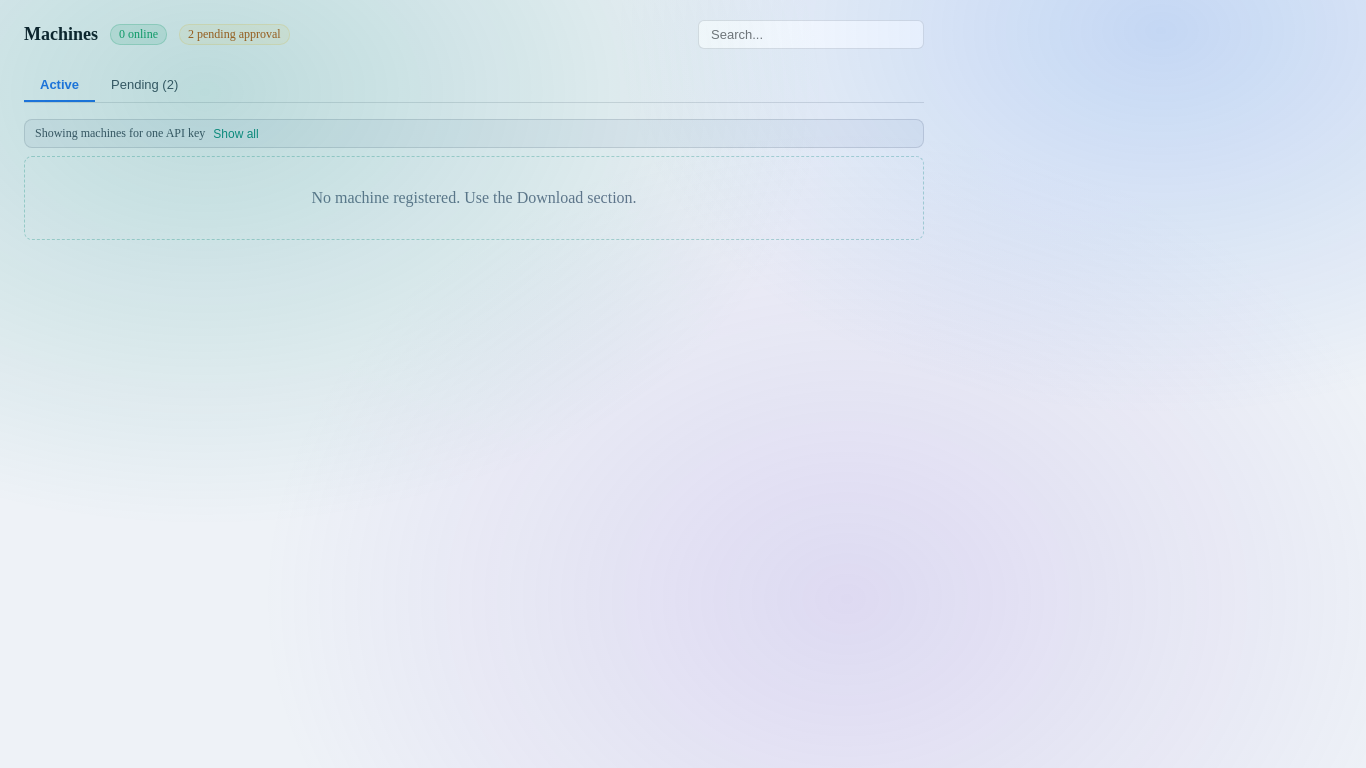
Test: MachinesPage key filter › finds pending machines that belong to the filtered key
Click the button "Pending (2)" at x=145, y=86, box x1=95 y1=69 x2=194 y2=102
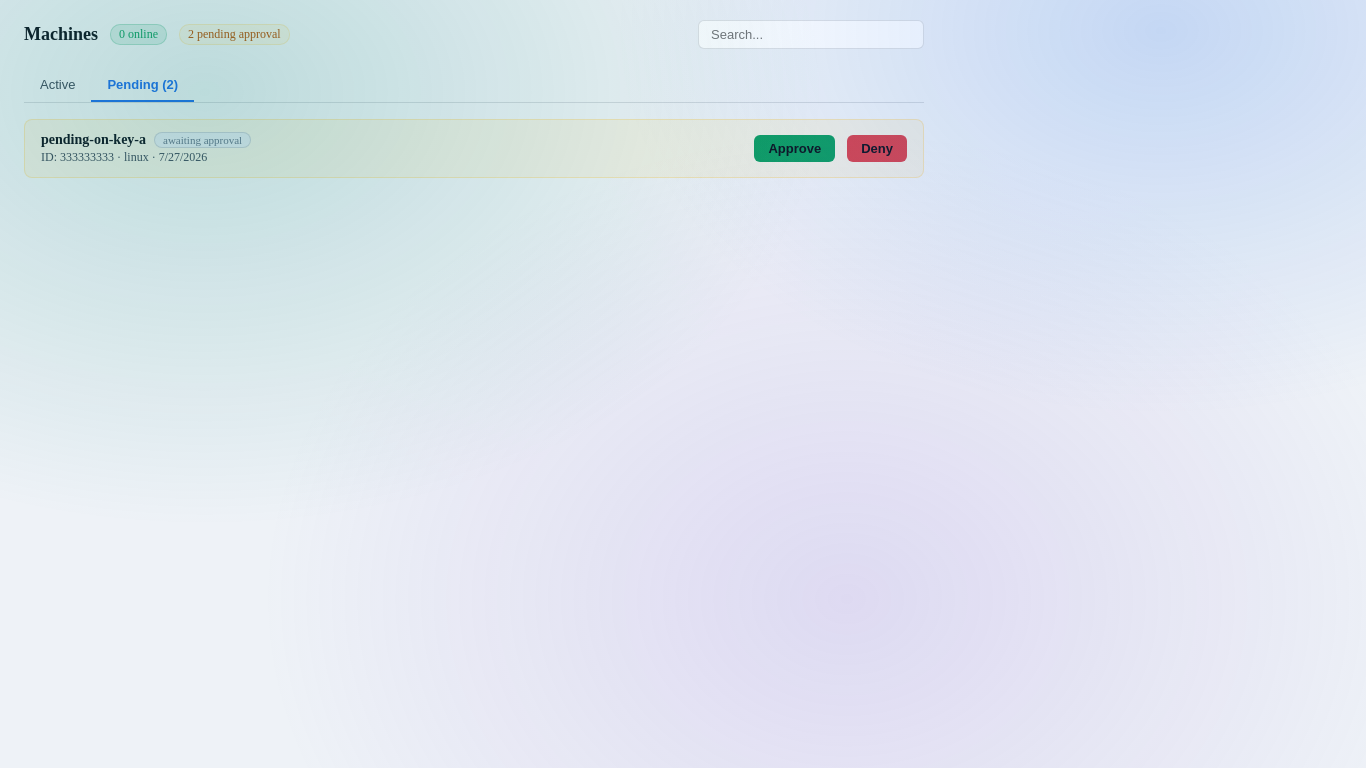
Check: the text "pending-on-key-a" is shown, box x1=41 y1=132 x2=146 y2=148
